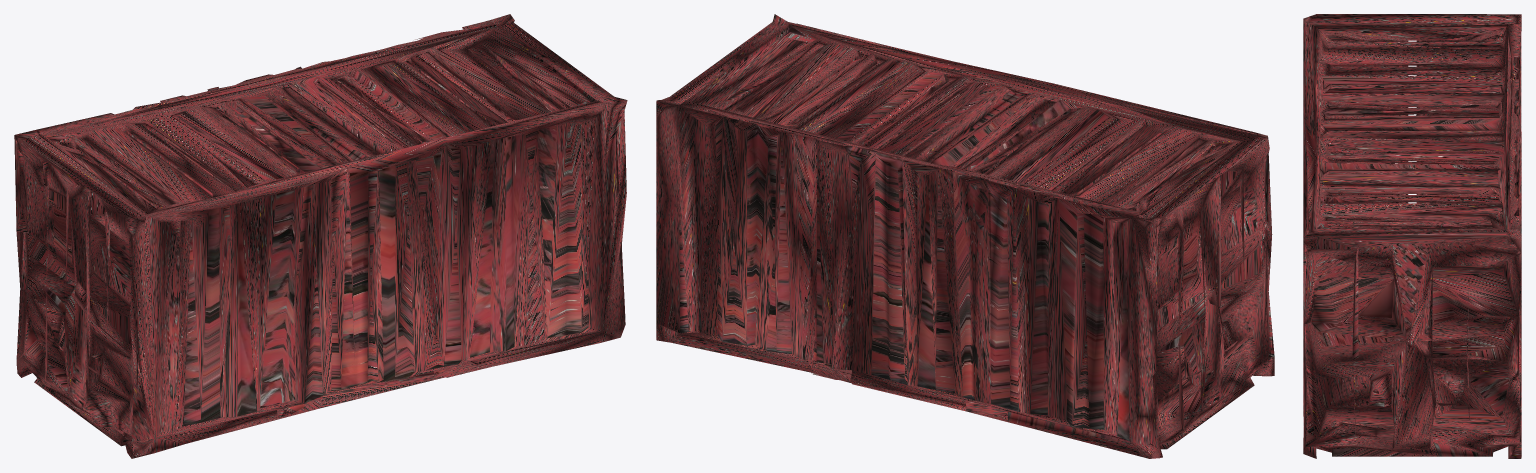
File: container_red.glb
3 views of the same model, side by side, from view 1: azimuth 30°, elevation 25°; view 2: azimuth 150°, elevation 25°; view 3: azimuth 270°, elevation 25° (orthographic). The views are drawn at different scales.
Parts seen in each view (by area): view 1: container_red; view 2: container_red; view 3: container_red.
Boxes of the visible parts, x1,y1,x2,y2 form: container_red: (14,14,627,458); container_red: (656,14,1274,458); container_red: (1303,14,1521,458).
Size of the model in its own units: 2 by 0.9176 by 0.8226.
1 material, 1 textured.
